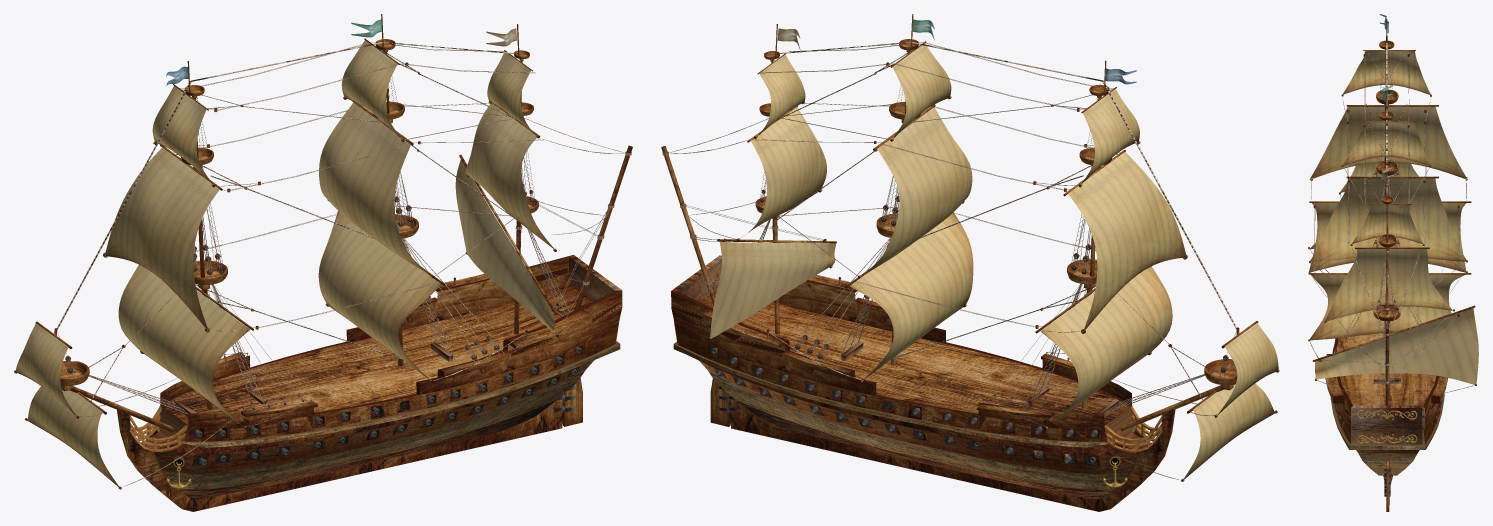
The model's file is ship_r_optimized.glb.
3 renders of one model, left to right at view 1: azimuth 30°, elevation 25°; view 2: azimuth 150°, elevation 25°; view 3: azimuth 270°, elevation 25°, orthographic. The views are drawn at different scales.
Parts seen in each view (by area): view 1: Object_30, Object_33, Object_7, Object_16, Object_39, Object_36, Object_40, Object_32, Object_17, Object_31; view 2: Object_30, Object_33, Object_7, Object_16, Object_39, Object_36, Object_40, Object_32, Object_31; view 3: Object_30, Object_33, Object_7, Object_39, Object_16, Object_6, Object_40.
Part boxes in pixels (x1,y1,x2,y2): Object_30: (15,40,554,486); Object_33: (14,14,632,511); Object_7: (56,42,631,487); Object_16: (156,341,620,493); Object_39: (145,255,621,477); Object_36: (178,400,556,499); Object_40: (194,347,581,466); Object_32: (129,406,187,452); Object_17: (65,184,534,410); Object_31: (193,365,577,464); Object_30: (710,43,1278,479); Object_33: (661,14,1279,511); Object_7: (662,42,1236,479); Object_16: (673,341,1136,496); Object_39: (671,255,1145,478); Object_36: (737,400,1112,499); Object_40: (711,347,1097,463); Object_32: (1104,406,1162,452); Object_31: (710,346,1099,464); Object_30: (1309,51,1478,384); Object_33: (1308,19,1476,511); Object_7: (1309,36,1474,405); Object_39: (1351,378,1424,453); Object_16: (1330,345,1444,475); Object_6: (1357,410,1417,443); Object_40: (1333,349,1442,496).
Bounding box in the file's own units: 16.12 × 11.81 × 5.26.
15 materials, 15 textured.
